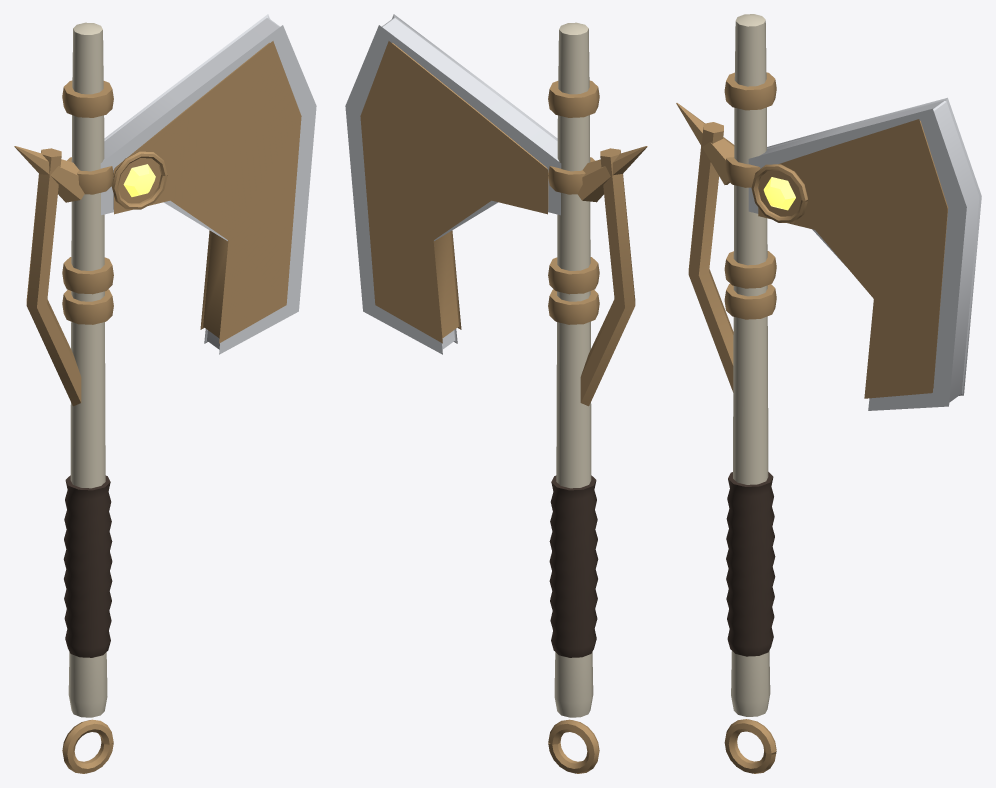
File: artisan_anchor_beard_axe.glb
3 renders of one model, left to right at view 1: azimuth 30°, elevation 25°; view 2: azimuth 150°, elevation 25°; view 3: azimuth 330°, elevation 25°, orthographic.
Parts seen in each view (by area): view 1: artisan_anchor_beard_axe; view 2: artisan_anchor_beard_axe; view 3: artisan_anchor_beard_axe.
Boxes of the visible parts, x1,y1,x2,y2 form: artisan_anchor_beard_axe: (14, 14, 316, 773); artisan_anchor_beard_axe: (345, 14, 647, 773); artisan_anchor_beard_axe: (676, 14, 981, 773).
Size of the model in its own units: 0.4025 by 0.976 by 0.0702.
